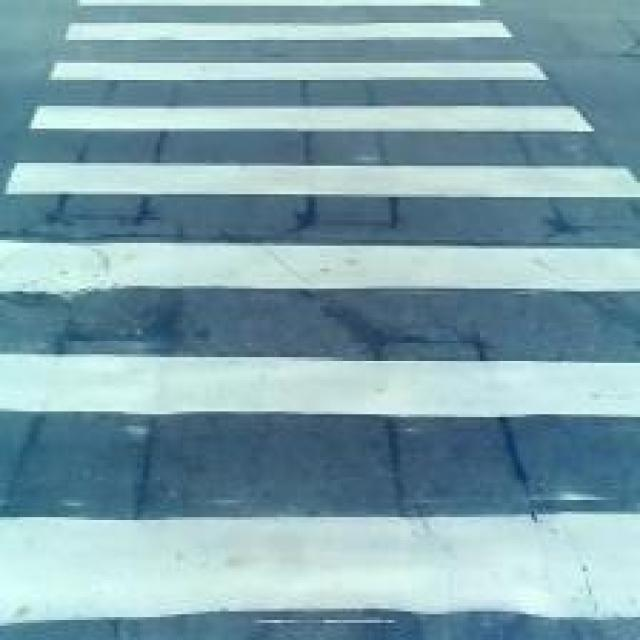walk-crossing: (73, 14, 590, 640)
